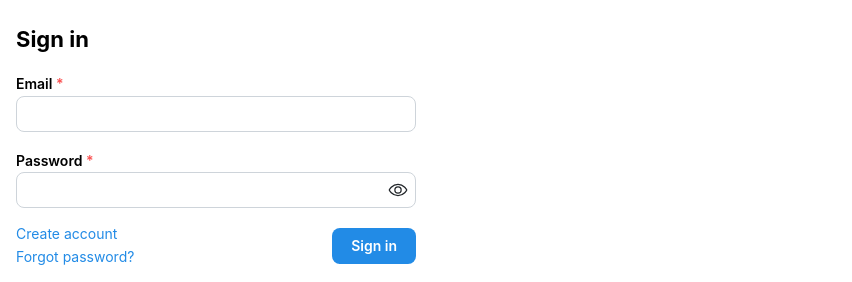
shows the wait in seconds when it is under a minute
The image size is (852, 282).
Type "user@example.com" into the field labelled "Email *" at coordinates (216, 114), box 16,96 -> 416,132
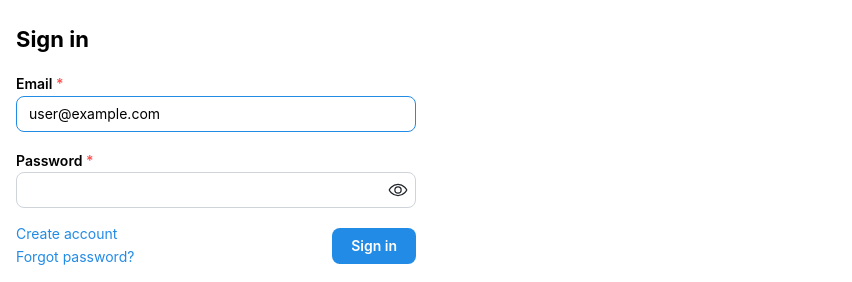
Type "secret" into the password field labelled "Password *" at coordinates (216, 190), box 17,173 -> 415,207
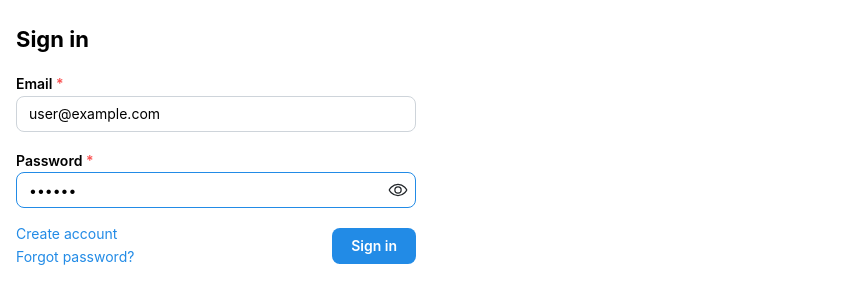
Click the button "Sign in" at coordinates (374, 246), box 332,228 -> 416,264
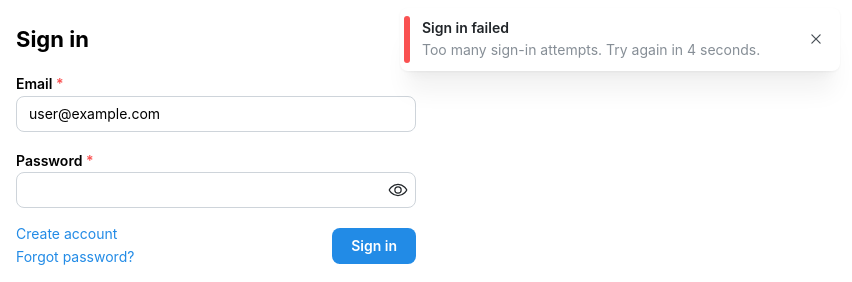
Result: the text "Too many sign-in attempts. Try again in 4 seconds." is shown at 422,40 -> 792,61
